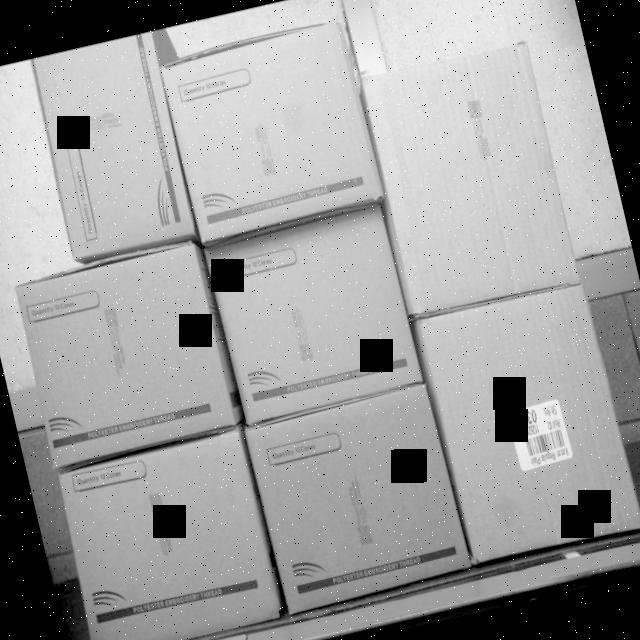box: (412, 278, 640, 565), (364, 44, 575, 316), (11, 239, 243, 471), (248, 382, 474, 620), (160, 22, 386, 246), (52, 428, 285, 640), (207, 206, 422, 424), (28, 34, 191, 261)
